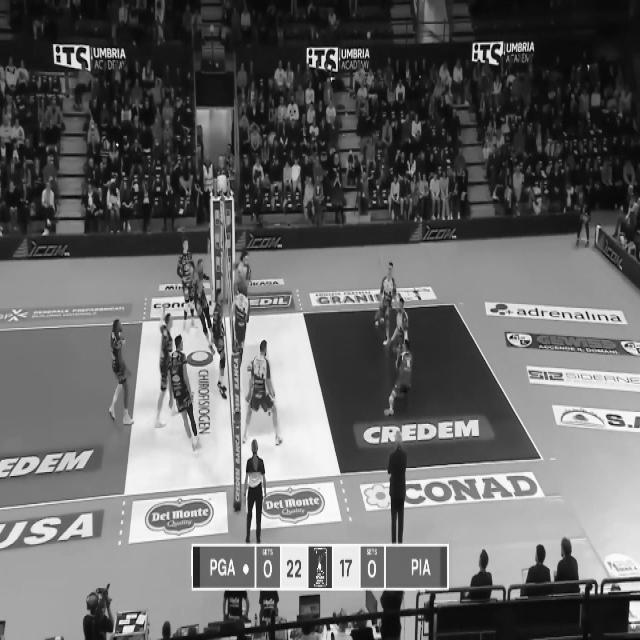volleyball court: (1, 302, 541, 508)
